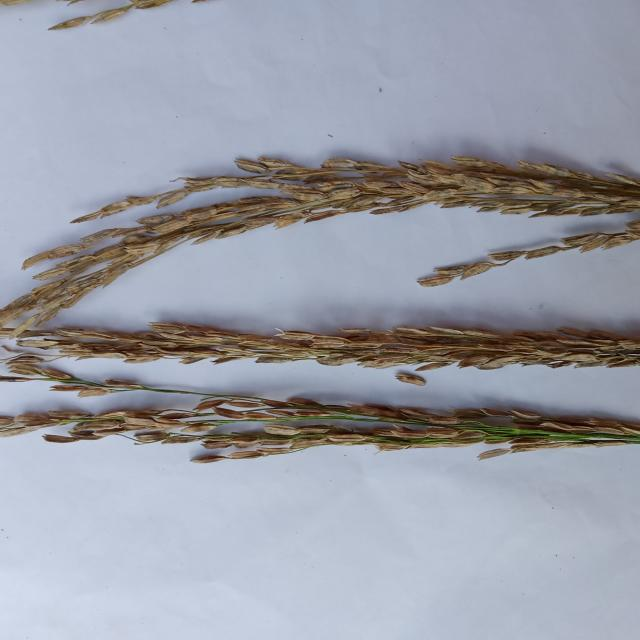Neck_Blast: (37, 159, 640, 322), (6, 397, 639, 458), (45, 328, 640, 369)
